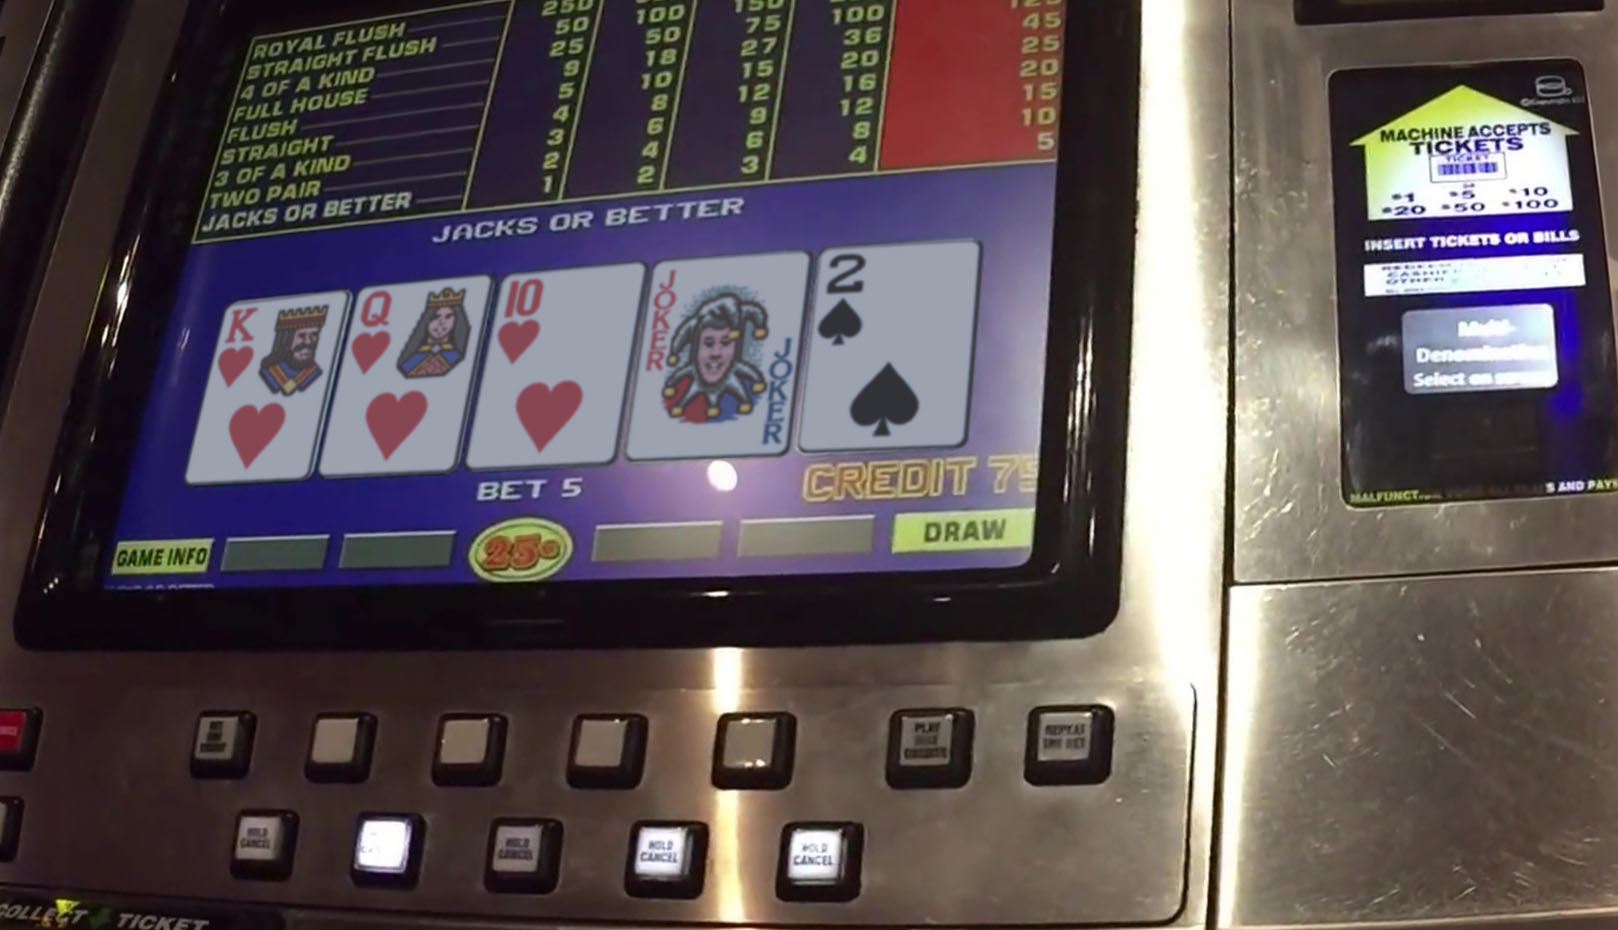HK: (214, 296, 334, 477)
HQ: (344, 280, 477, 471)
HT: (485, 268, 635, 464)
S2: (821, 248, 965, 444)
joker: (645, 256, 792, 460)
